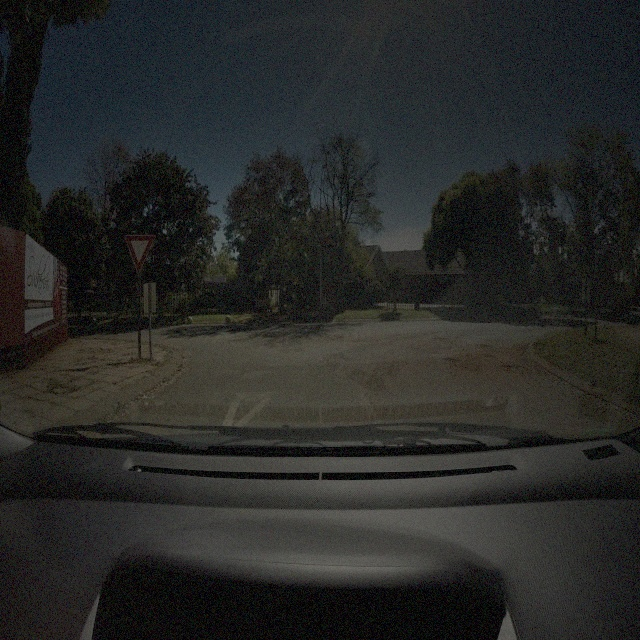pothole: (502, 363, 527, 374), (445, 356, 462, 366), (477, 342, 495, 351), (484, 353, 497, 362), (433, 337, 448, 342), (353, 338, 364, 343)
